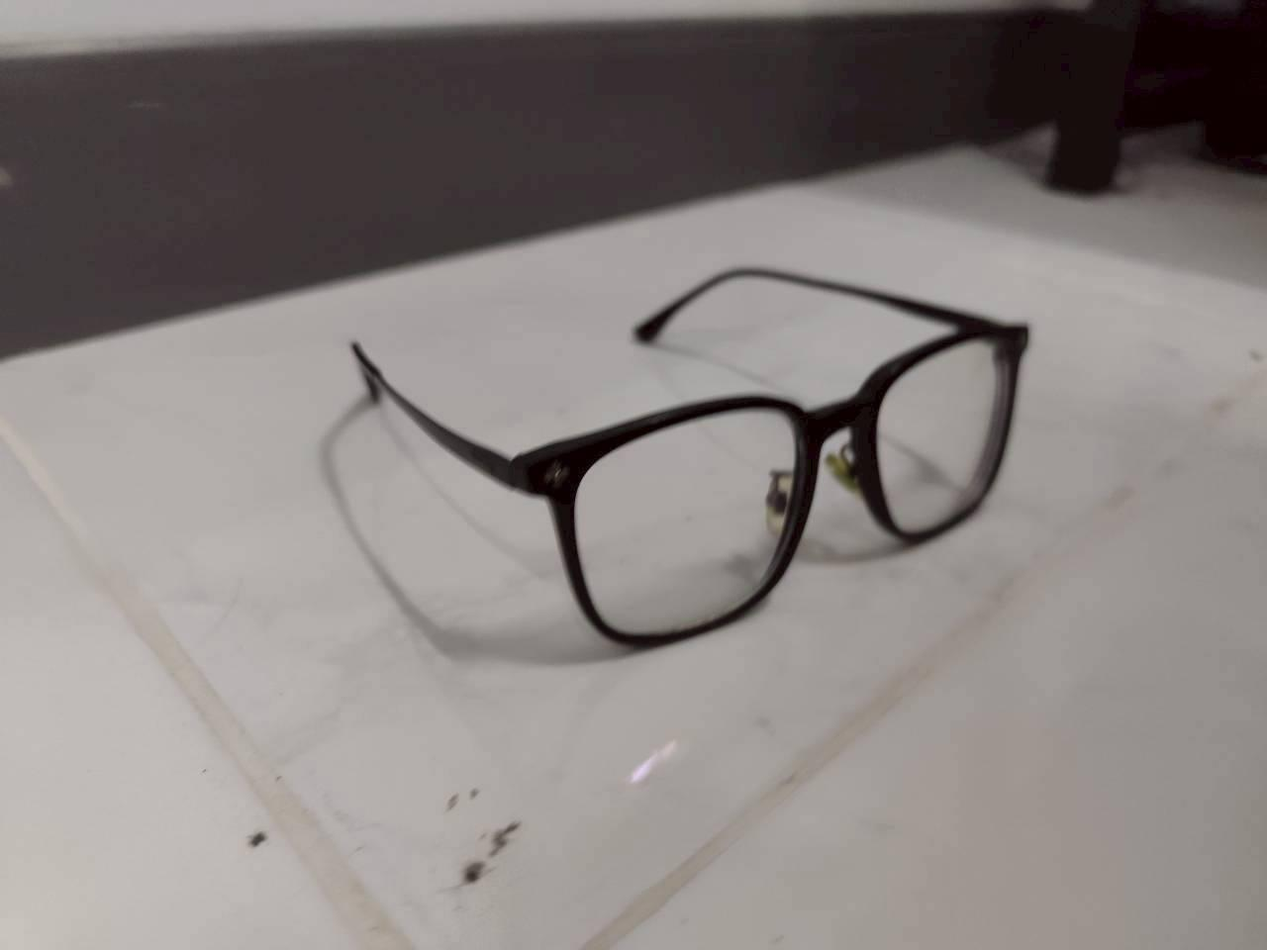glasses: (329, 261, 1053, 662)
